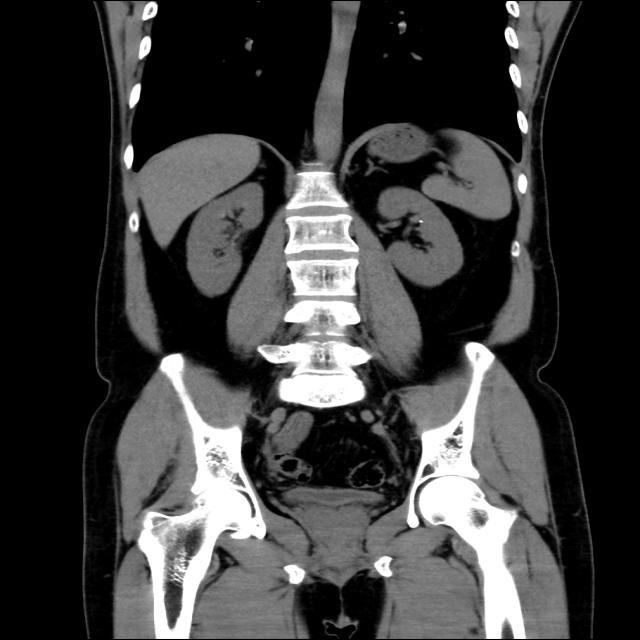kidneystone: (416, 218, 424, 225)
